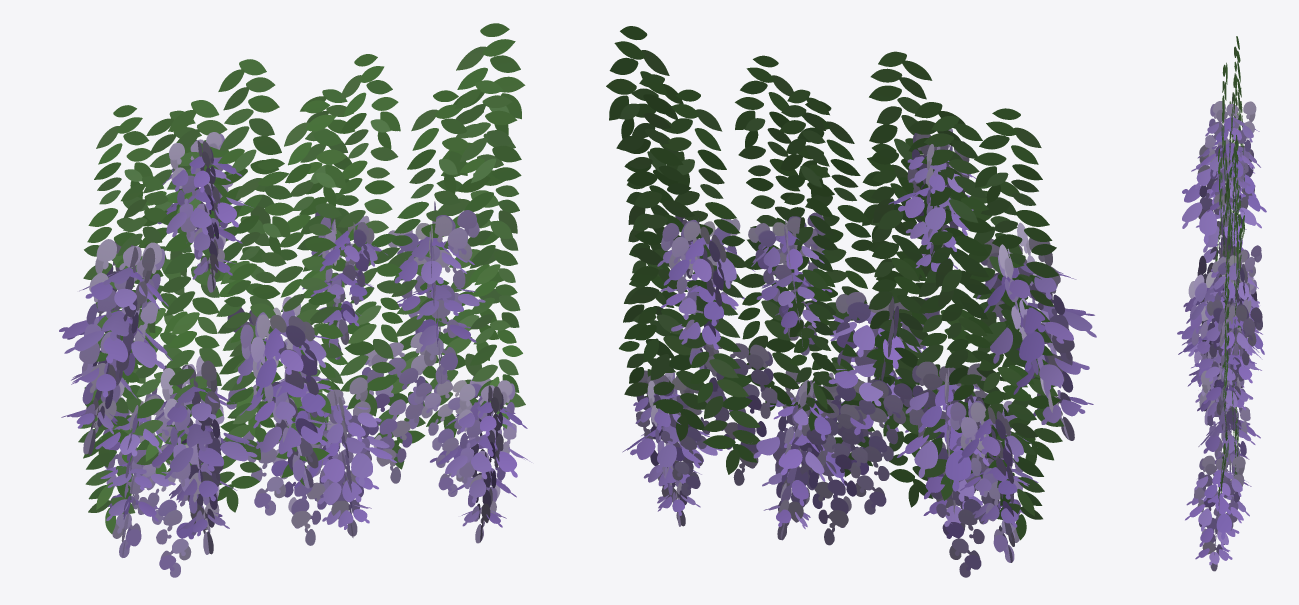
File: SM_Env_Vine_Creeping_02.fbx
The picture shows the model from 3 angles, left to right: view 1: azimuth 30°, elevation 25°; view 2: azimuth 150°, elevation 25°; view 3: azimuth 270°, elevation 25°; orthographic projection. The views are drawn at different scales.
Visible parts, largest first — view 1: SM_Env_Vine_Creeping_02_LOD0; view 2: SM_Env_Vine_Creeping_02_LOD0; view 3: SM_Env_Vine_Creeping_02_LOD0.
Boxes of the visible parts, x1,y1,x2,y2 form: SM_Env_Vine_Creeping_02_LOD0: (59,23,531,577); SM_Env_Vine_Creeping_02_LOD0: (606,26,1096,577); SM_Env_Vine_Creeping_02_LOD0: (1177,36,1266,571).
Size of what is drawn, in the model's own units: 227 by 233 by 61.58.
